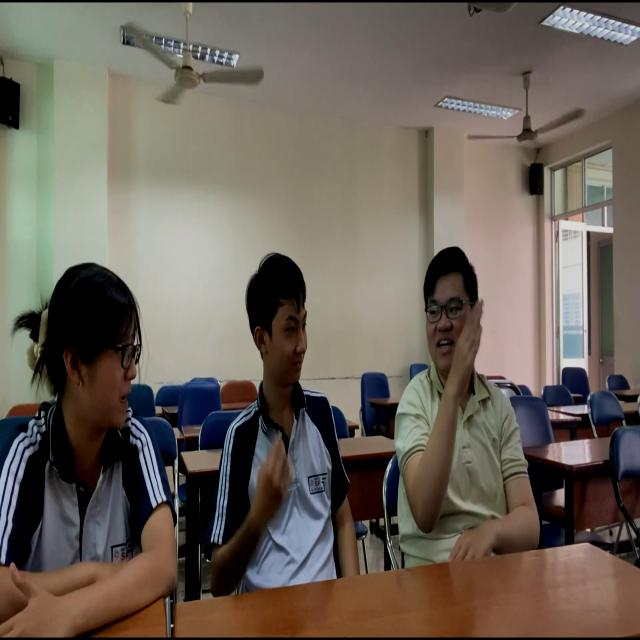raise_hand: (392, 237, 499, 567)
